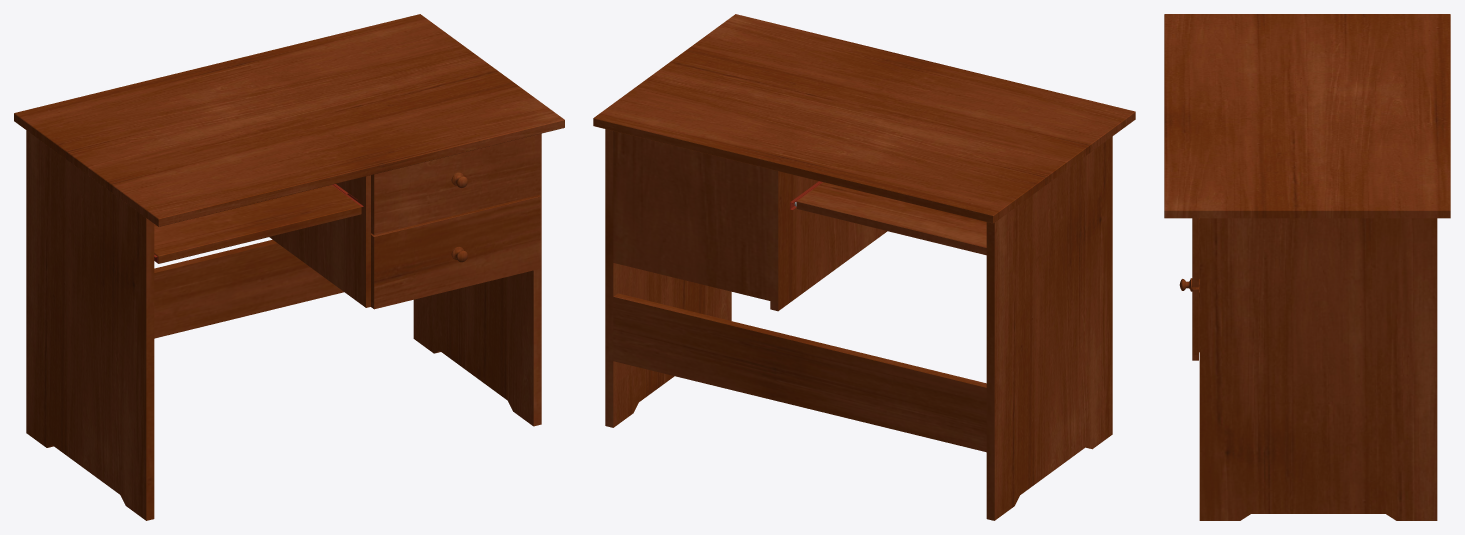
File: kids_wooden_desk.obj
3 views of the same model, side by side, from view 1: azimuth 30°, elevation 25°; view 2: azimuth 150°, elevation 25°; view 3: azimuth 270°, elevation 25° (orthographic).
Visible parts, largest first — view 1: table_Cube, Cube.002, Cube.001, suf_Cube.005; view 2: table_Cube, suf_Cube.005; view 3: table_Cube, Cube.002, Cube.001.
Part boxes in pixels (<box>): table_Cube: <box>14,14,564,520</box>; Cube.002: <box>371,195,540,309</box>; Cube.001: <box>371,134,540,234</box>; suf_Cube.005: <box>154,185,361,263</box>; table_Cube: <box>593,14,1135,520</box>; suf_Cube.005: <box>796,182,986,255</box>; table_Cube: <box>1164,14,1450,520</box>; Cube.002: <box>1192,279,1199,360</box>; Cube.001: <box>1192,218,1199,287</box>.
Size of the model in its own units: 100 by 74.64 by 61.84.
3 materials, 1 textured.
